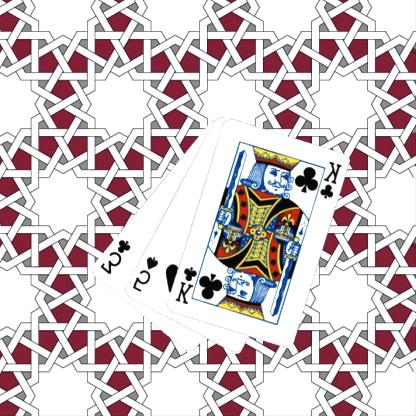3C: (99, 236, 133, 276)
5S: (131, 254, 161, 293)
KC: (174, 263, 205, 306), (313, 159, 344, 201)
